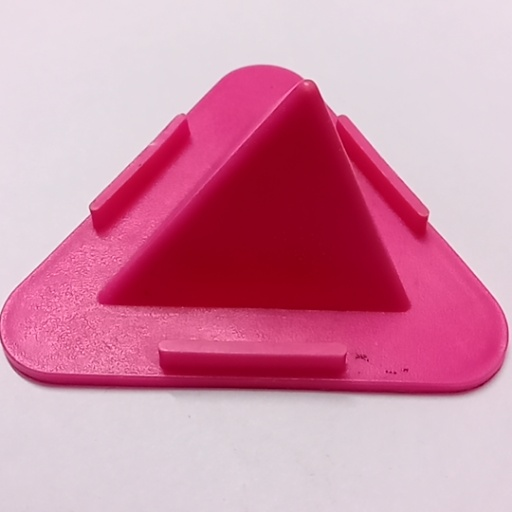pink_cone: (0, 53, 512, 466)
